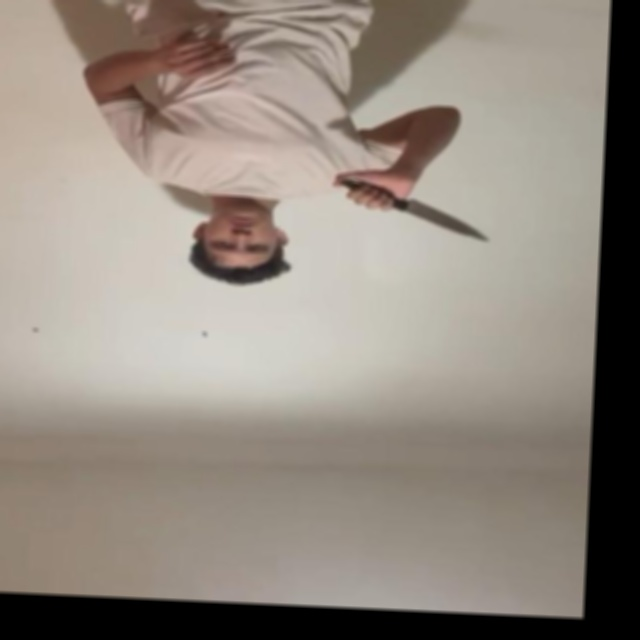Sharp-Object: (401, 202, 488, 242)
